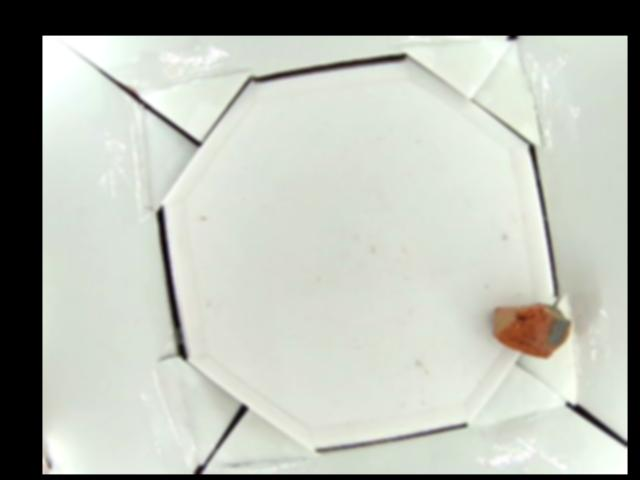Brisk: (492, 300, 573, 360)
